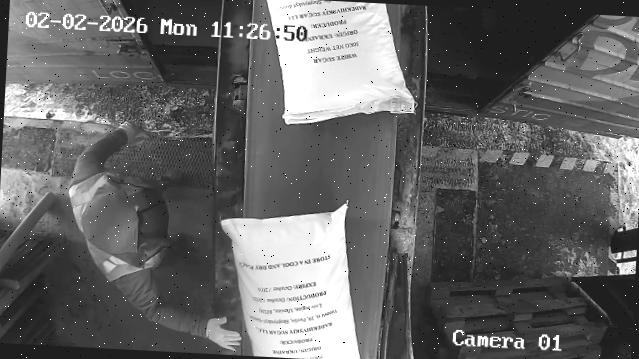bag: (213, 197, 372, 359), (258, 0, 419, 131)
